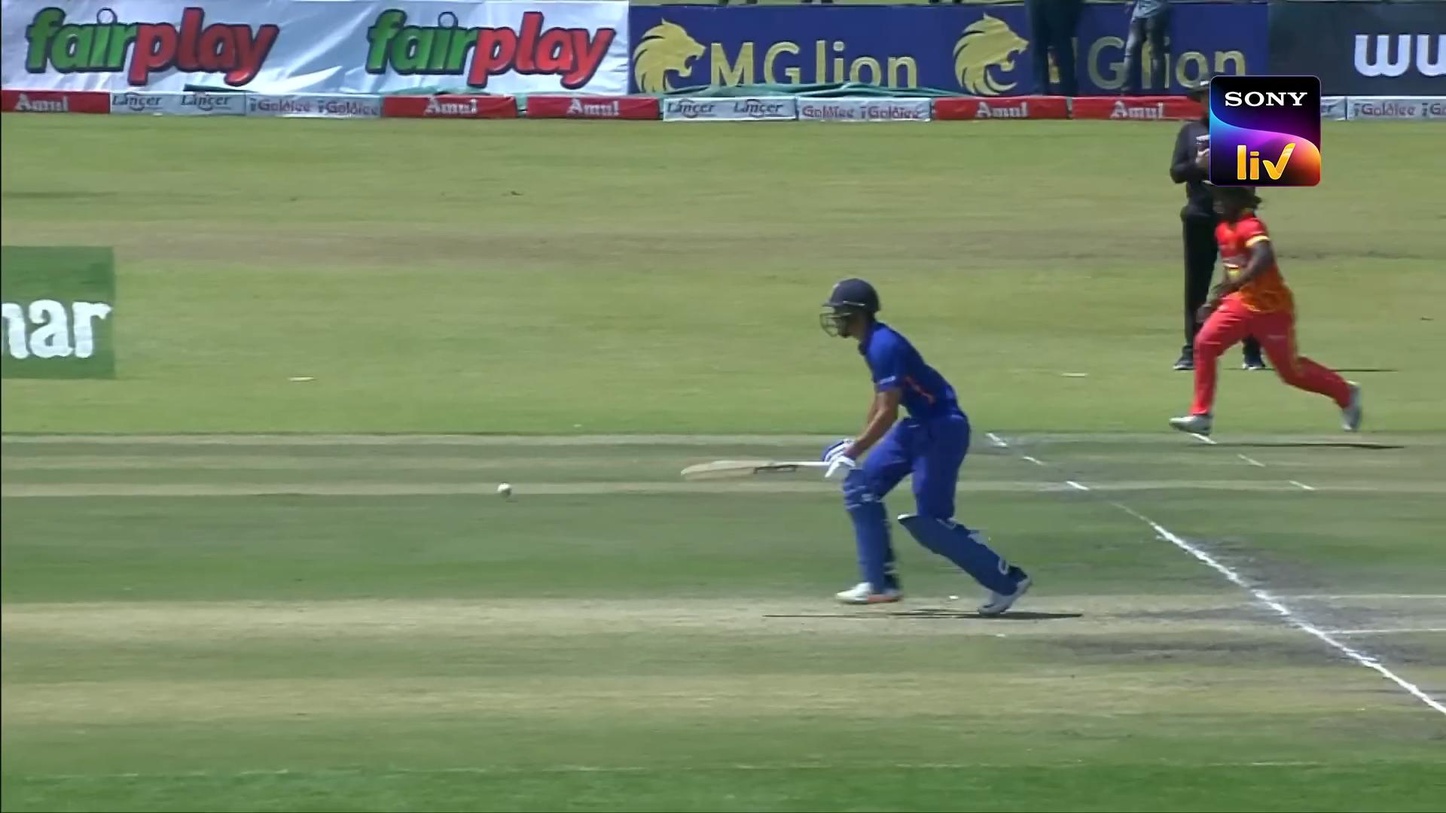batsman: (681, 276, 1032, 618)
